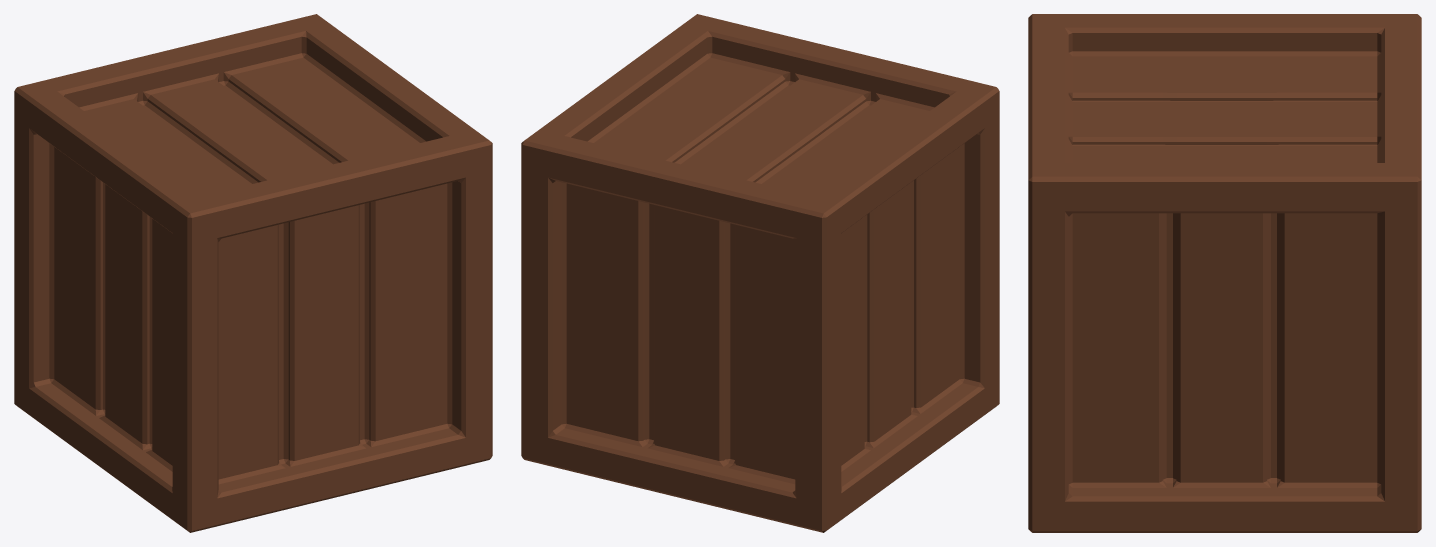
Rendered from Crate.fbx.
3 renders of one model, left to right at view 1: azimuth 30°, elevation 25°; view 2: azimuth 150°, elevation 25°; view 3: azimuth 270°, elevation 25°, orthographic. The views are drawn at different scales.
Visible parts, largest first — view 1: Cube; view 2: Cube; view 3: Cube.
Boxes of the visible parts, box(x1,y1,x2,y2) form: Cube: box(14, 14, 492, 532); Cube: box(521, 14, 999, 532); Cube: box(1028, 14, 1421, 532).
Bounding box in the file's own units: 200 × 200 × 200.
